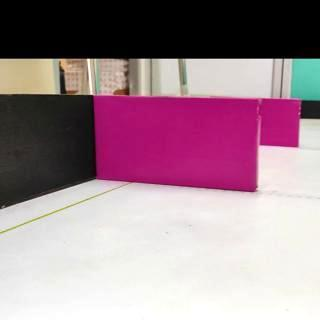xparking: (94, 96, 258, 190), (263, 100, 300, 146)
